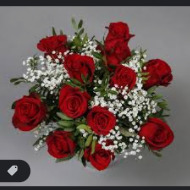RedRose: (11, 92, 51, 134), (140, 57, 179, 99), (104, 19, 135, 64), (56, 81, 91, 116), (64, 52, 98, 87), (139, 118, 176, 149), (86, 109, 122, 135)
